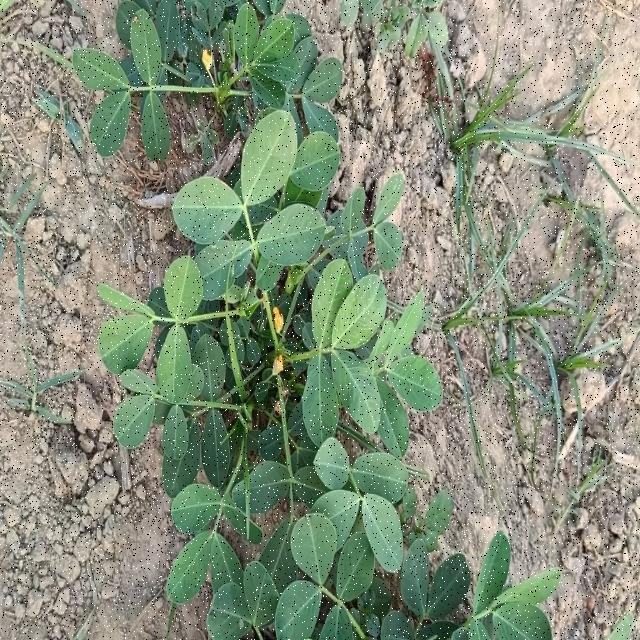plant: (72, 0, 560, 640)
